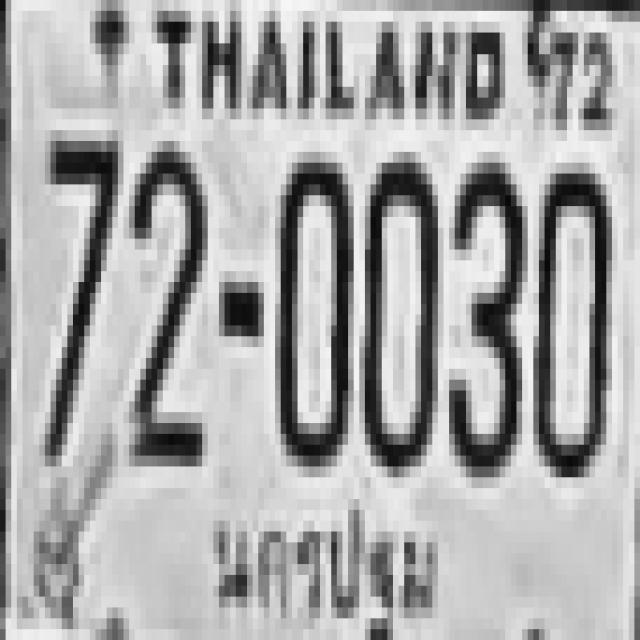0: (531, 157, 609, 472), (360, 152, 432, 466), (275, 152, 348, 455)
2: (129, 136, 202, 461)
3: (444, 152, 522, 466)
7: (42, 130, 115, 456)
NakhonPathom: (206, 488, 444, 640)
